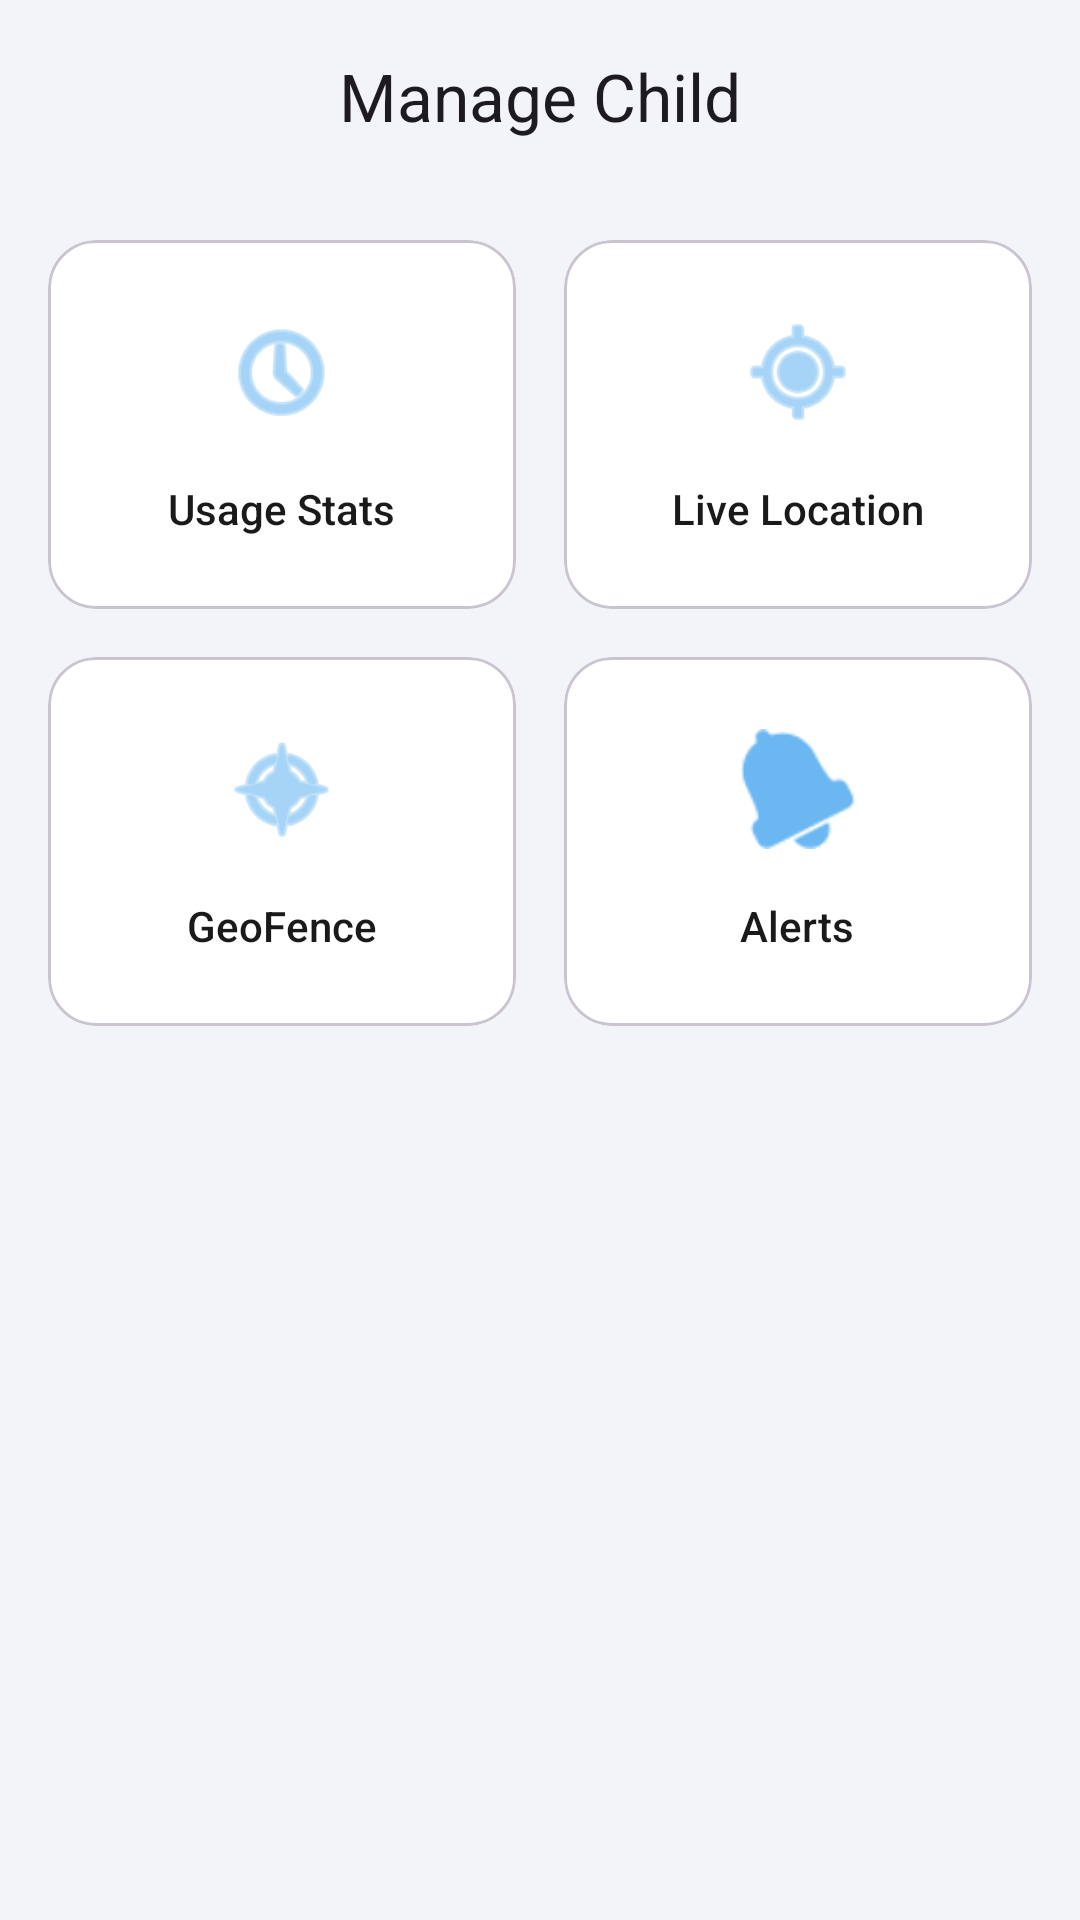

Screen size 1080x1920. Icon name, then its center in pixels as (x,y):
compass: (281,790)
mylocation: (798,372)
popup reminder: (798,789)
recent history: (281,372)
